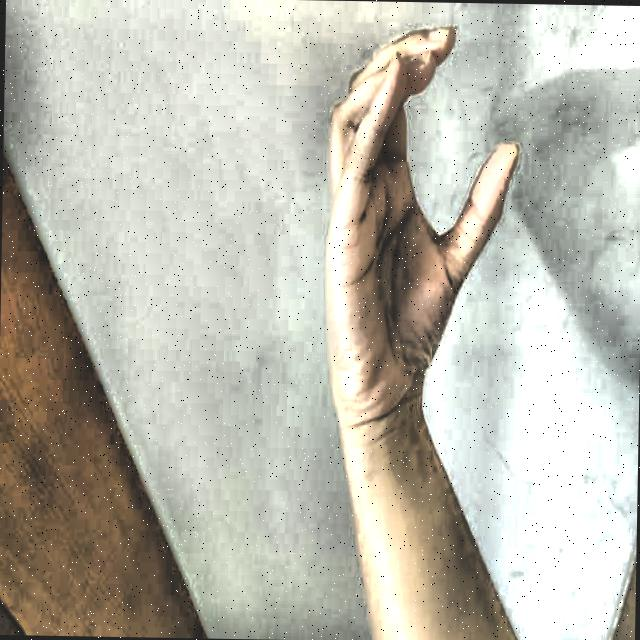A: (304, 6, 532, 452)
